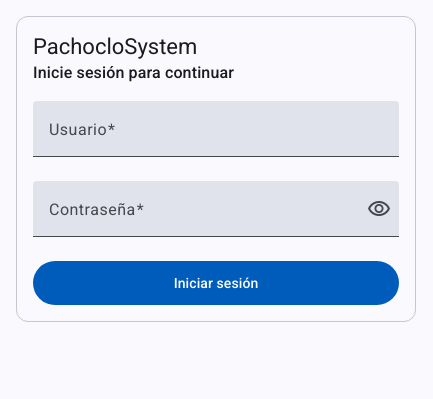
Test: LoginComponent › muestra los mensajes del servidor si falla
This screenshot has width=433, height=399.
Type "admin" into the field labelled "Usuario" at (216, 137), box [49, 125, 383, 149]
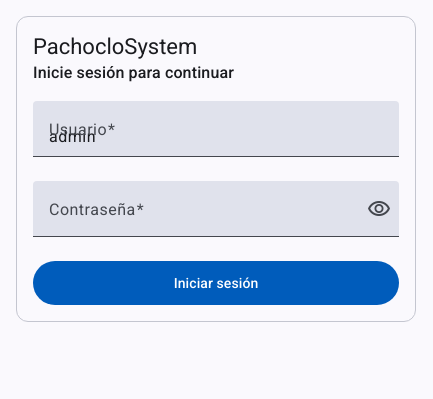
Type "mala" into the password field labelled "Contraseña" at (202, 217), box [49, 205, 355, 229]
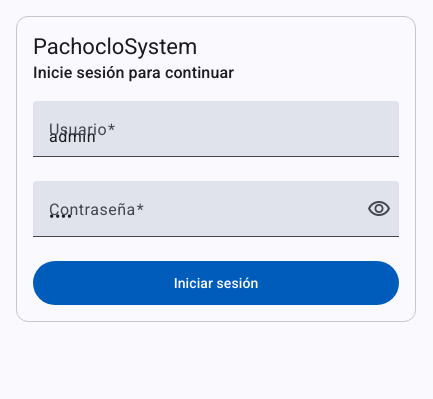
Click the submit button at (216, 283), box [33, 261, 399, 305]
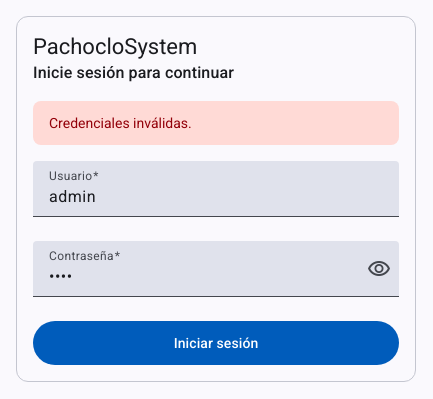
Expected: the submit button is enabled, [33, 321, 399, 365]
Expected: the text "Credenciales inválidas." is shown, [49, 115, 192, 131]
